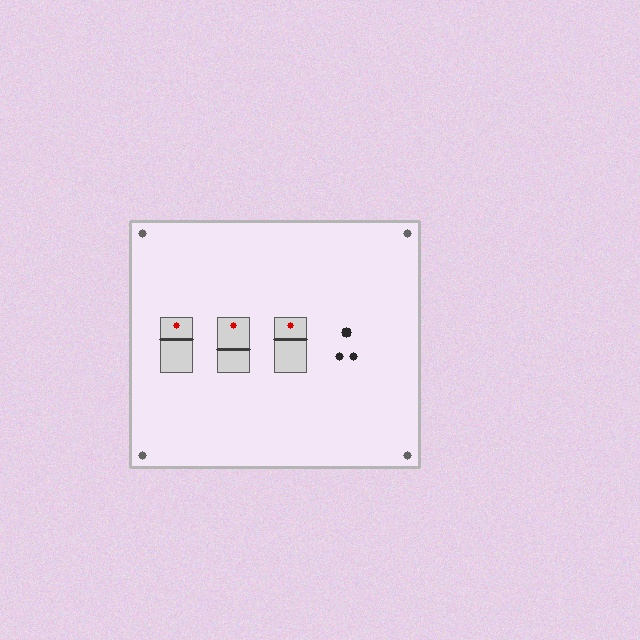switchboard: (130, 221, 419, 467)
